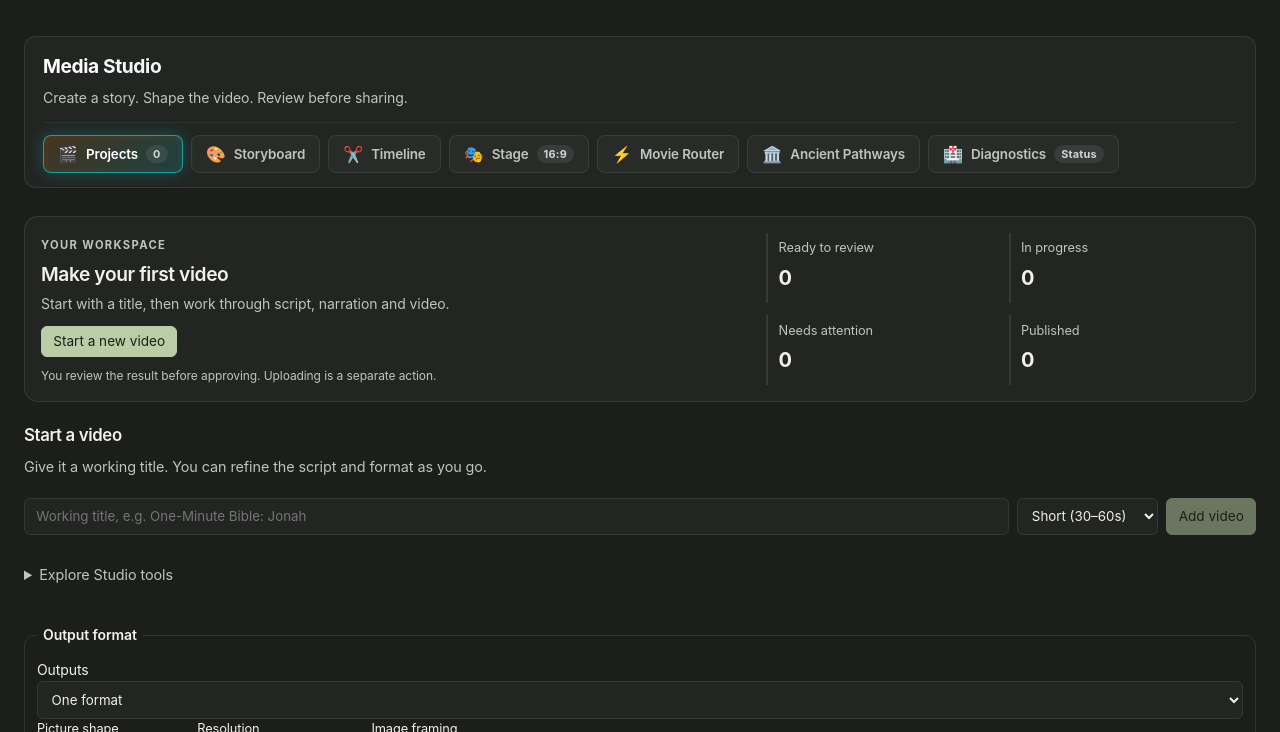
Scenario: an edit can be undone and redone, and the board says when it is unsaved
Click the tab "🎨 Storyboard" at (255, 154), box [191,135,320,173]
(page scrolled)
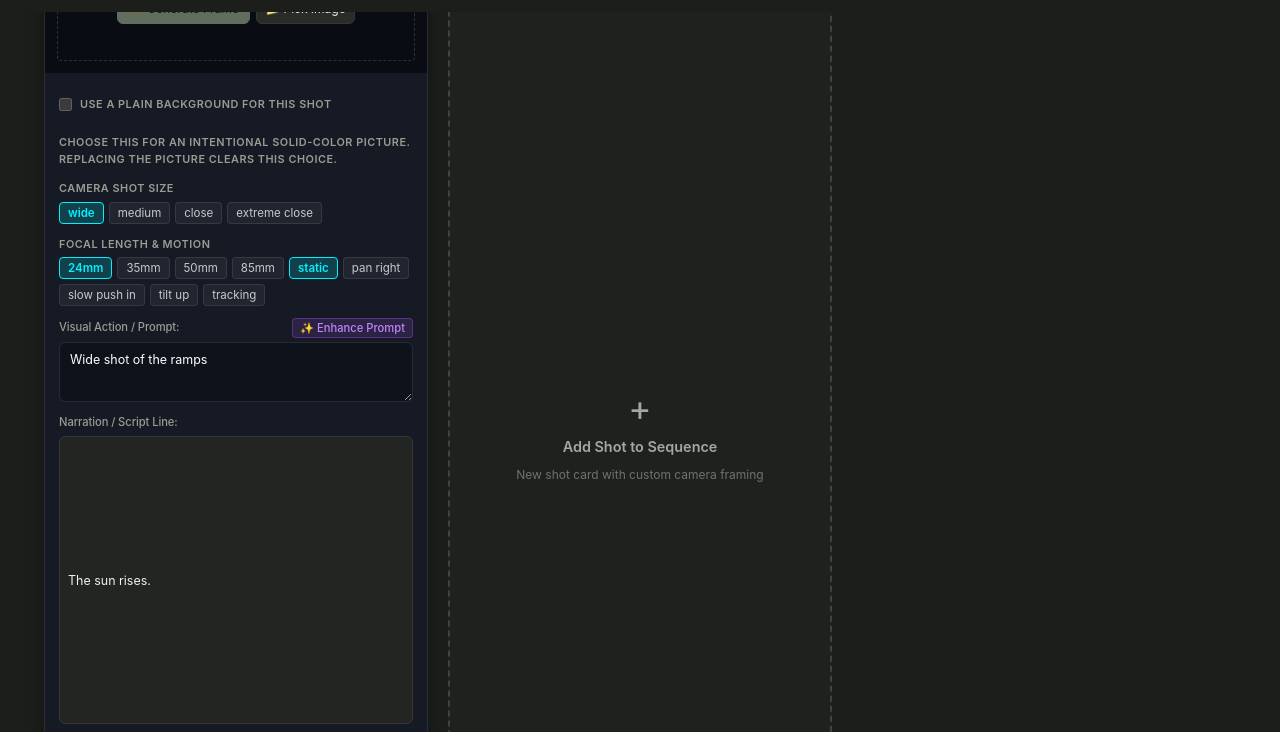
Check: the text "Unsaved edits — Save Board" is not shown
Replace the text in the text box named "Prompt for shot_001" with "Close-up of the chisel" at (236, 372), box [59,342,413,402]
(page scrolled)
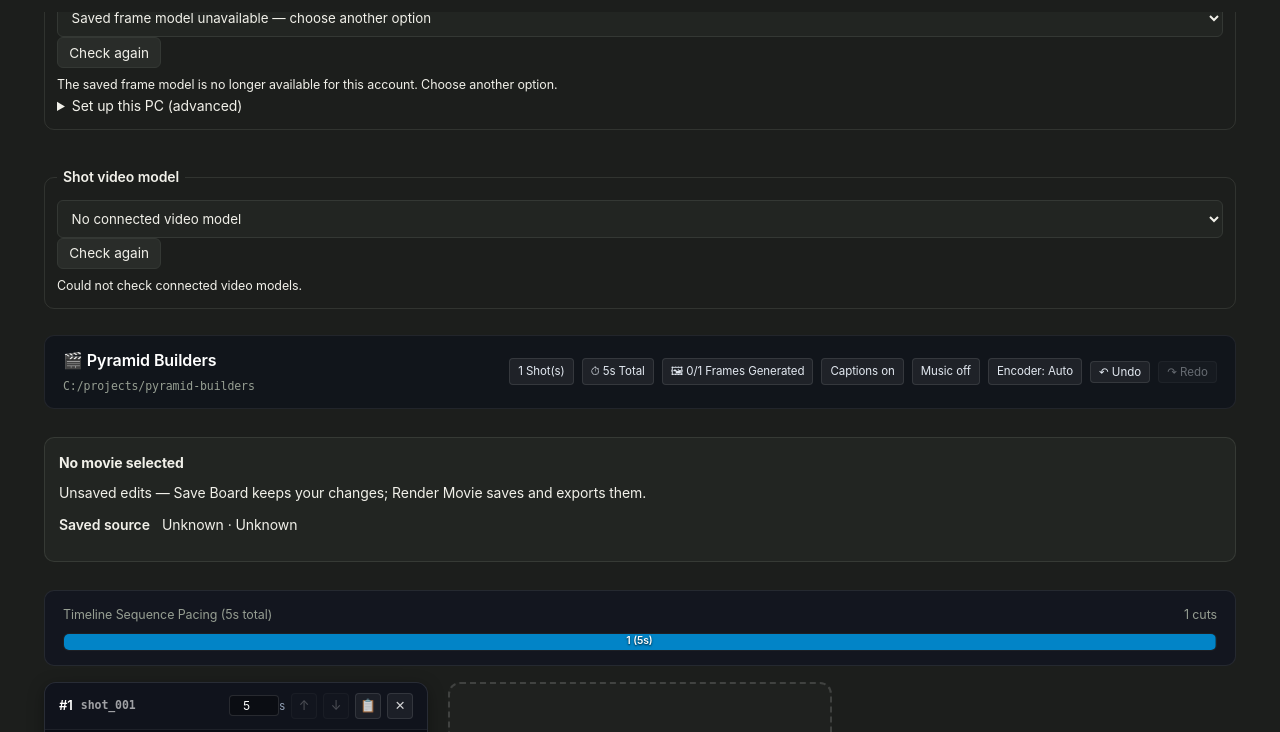
Check: the text "Unsaved edits — Save Board" is shown, box [59,484,646,501]
Check: the button "↶ Undo" is enabled
Click the button "↶ Undo" at (1120, 372), box [1090,360,1150,382]
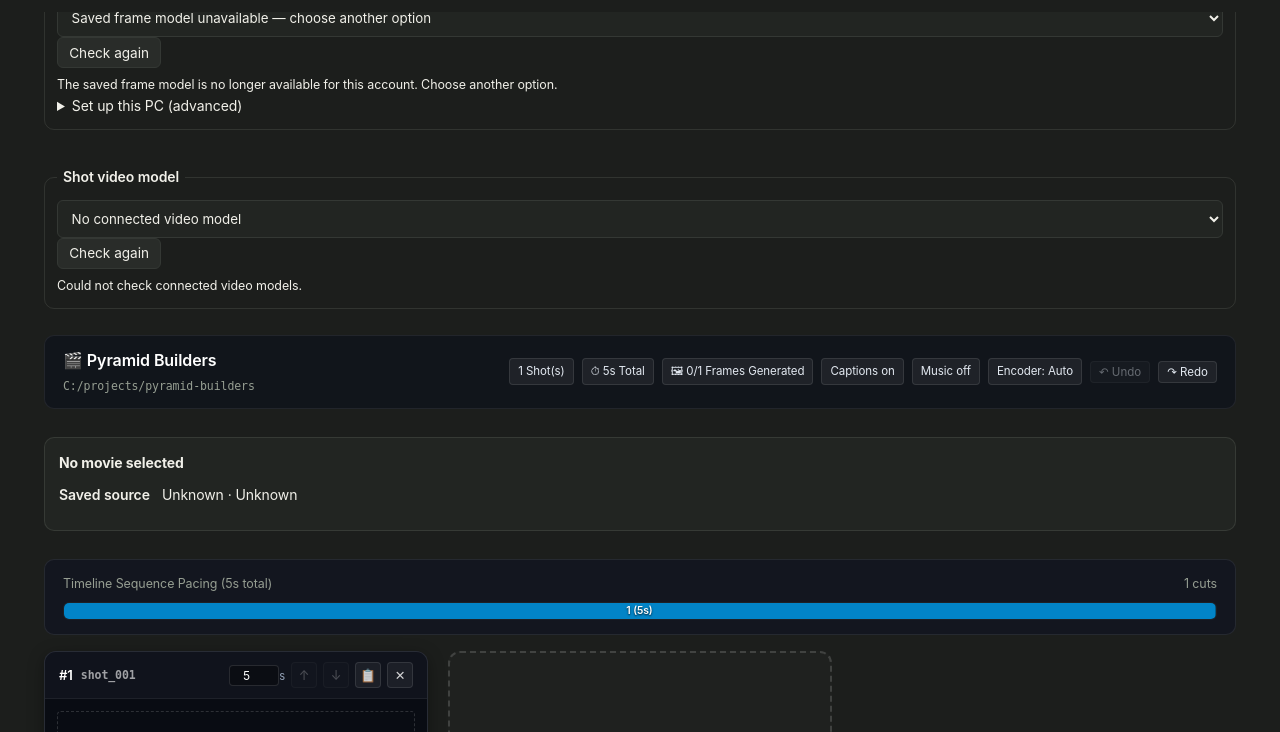
Check: the text "Unsaved edits — Save Board" is gone
Check: the button "↶ Undo" is disabled, box [1090,360,1150,382]
Click the button "↷ Redo" at (1188, 372), box [1158,360,1217,382]
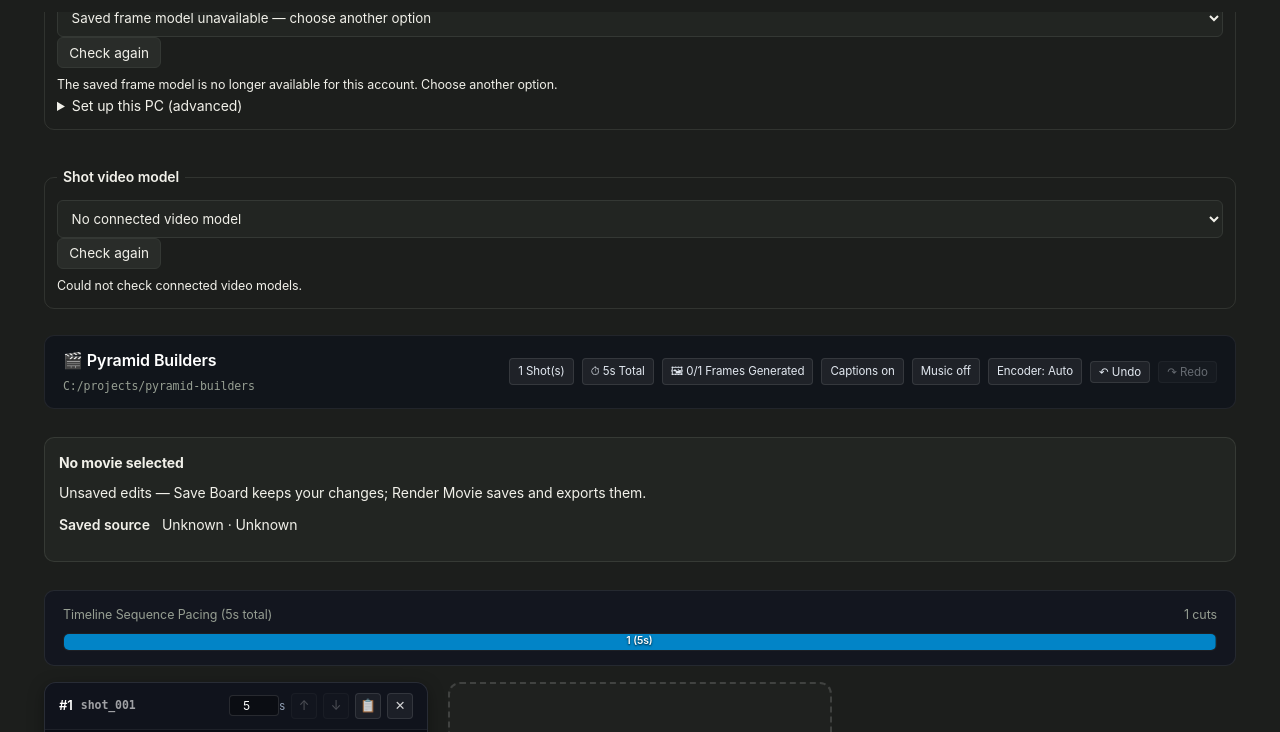
Check: the button "↷ Redo" is disabled, box [1158,360,1217,382]
